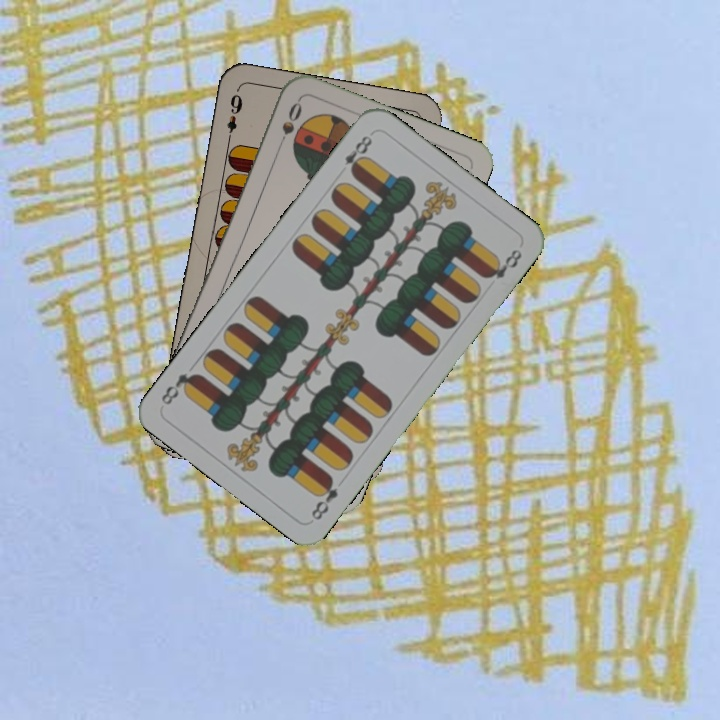E8: (307, 472, 341, 523), (340, 131, 375, 178)
E9: (222, 90, 245, 146)
SO: (273, 97, 305, 153)
